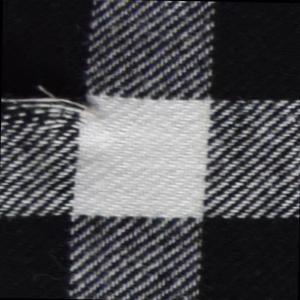Damage: (2, 80, 110, 134)
